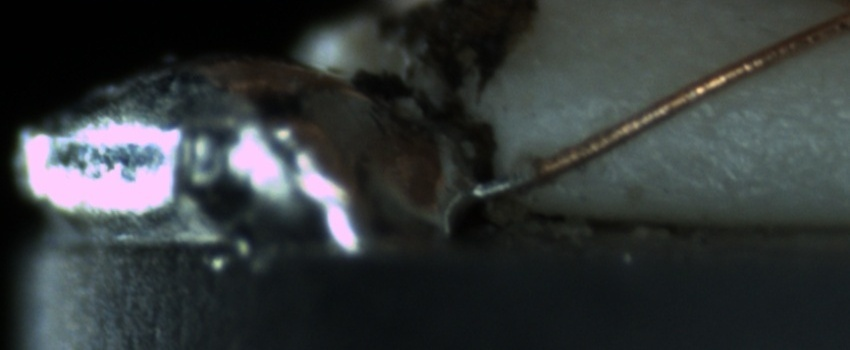DL: (554, 75, 841, 134)
TS: (468, 170, 535, 199)
